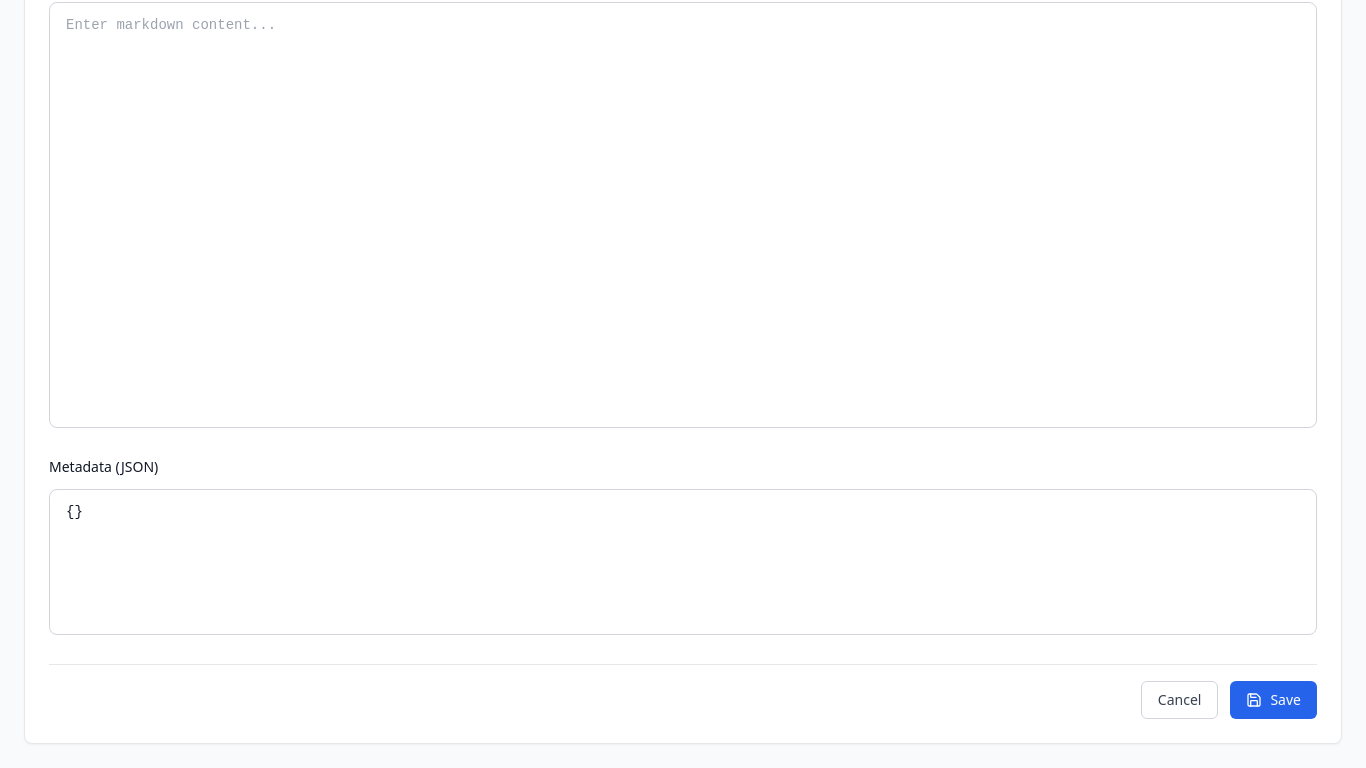
ArticleEditor › Error Handling › should allow dismissing error messages
(page scrolled)
Click the button "Save".
click(1274, 700)  # box [1230, 681, 1317, 719]
(page scrolled)
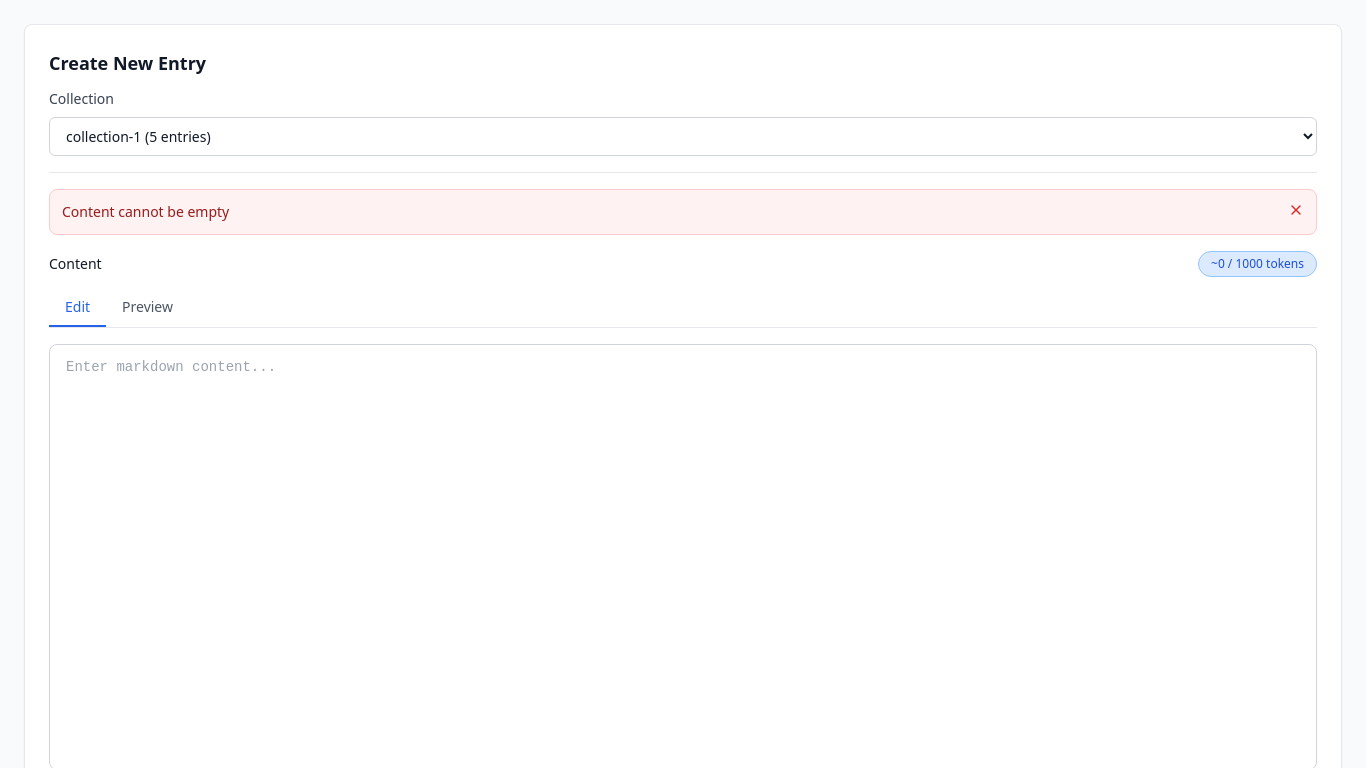
Expected: the text "Content cannot be empty" is shown, [62, 202, 229, 222]
Click the button.
click(1296, 210)  # box [1288, 202, 1304, 218]
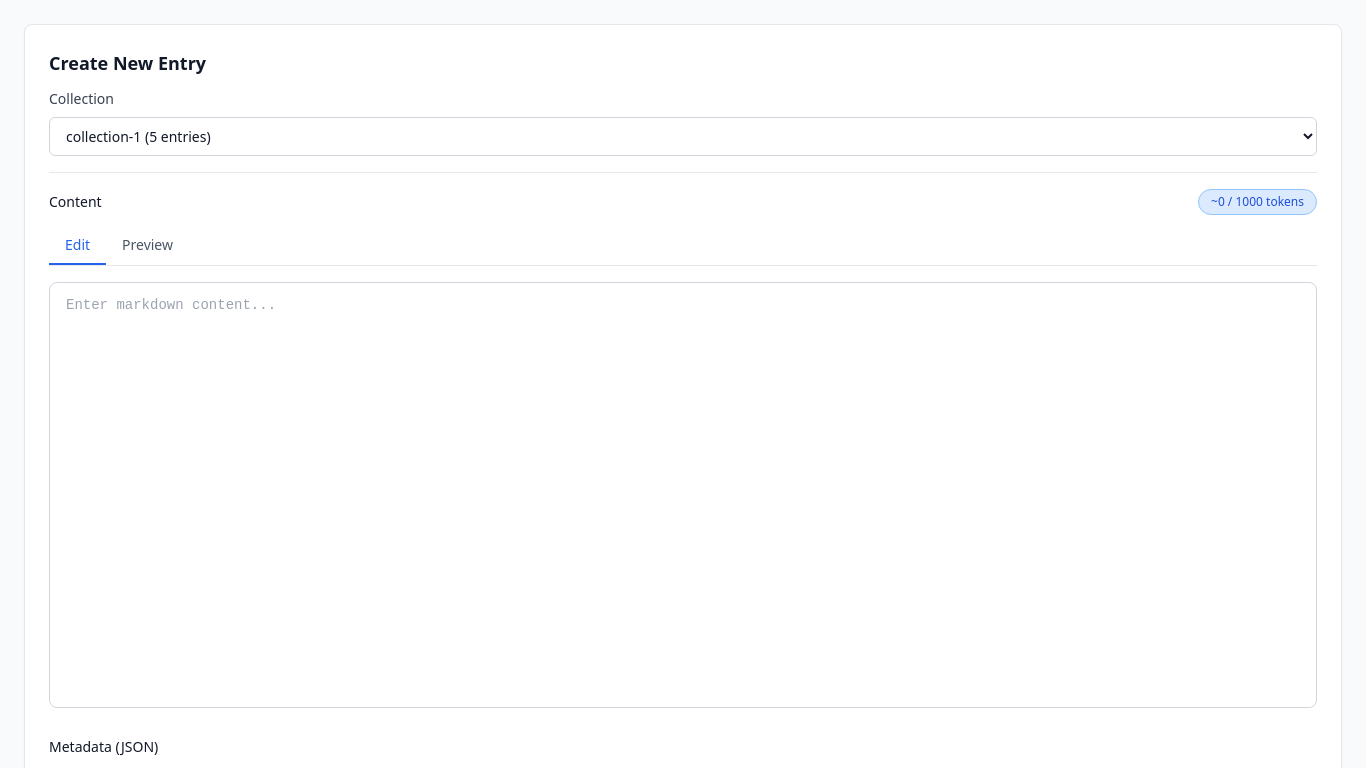
Expected: the text "Content cannot be empty" is gone
